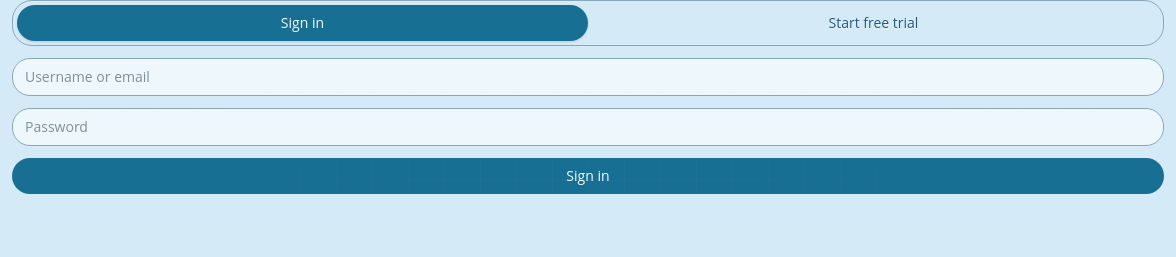
SignInForm › surfaces the server-side rate limit message
This screenshot has width=1176, height=257.
Expected: the button "Sign in" is enabled, [12,158,1164,194]
In the field with placeholder "Username or email": [588, 77] box [12,58,1164,96], type "someuser"
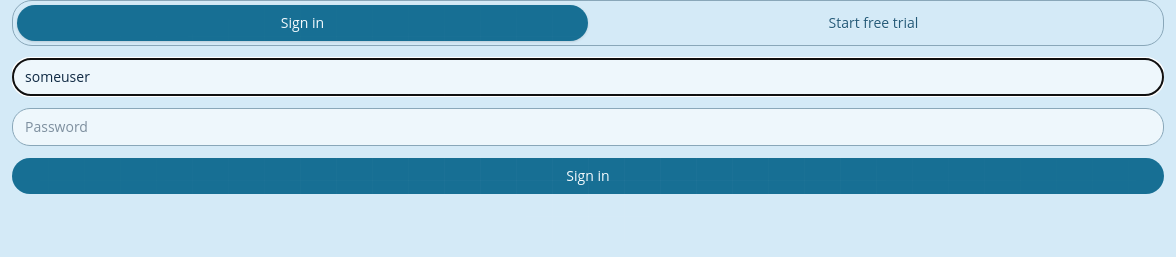
In the password field with placeholder "Password": [588, 127] box [12,108,1164,146], type "hunter2222"
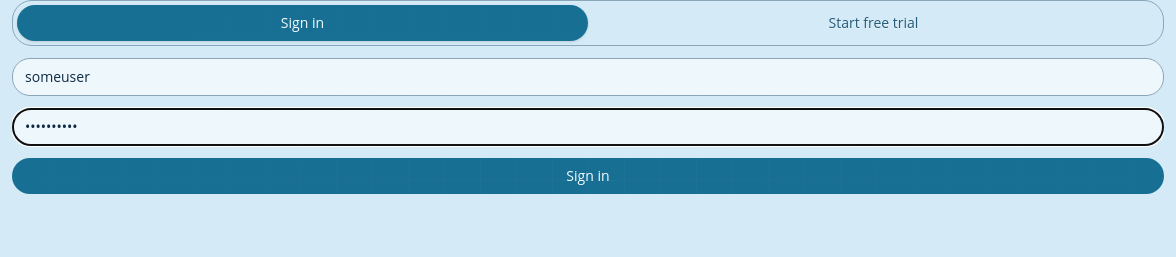
Click the button "Sign in": [588, 176] box [12,158,1164,194]
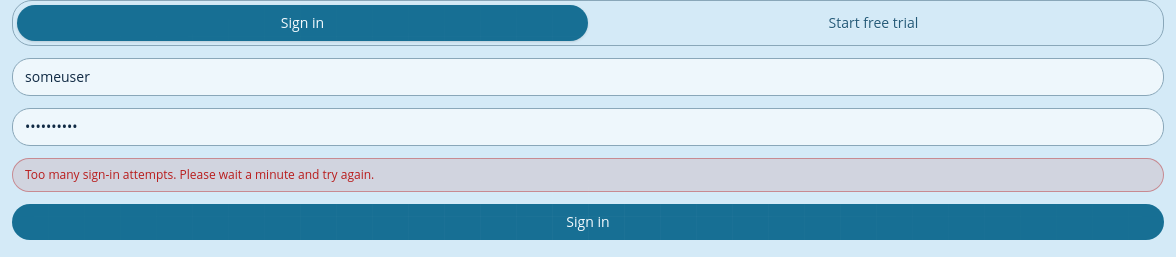
Expected: the message shows "Too many sign-in attempts", [25,166,374,183]
